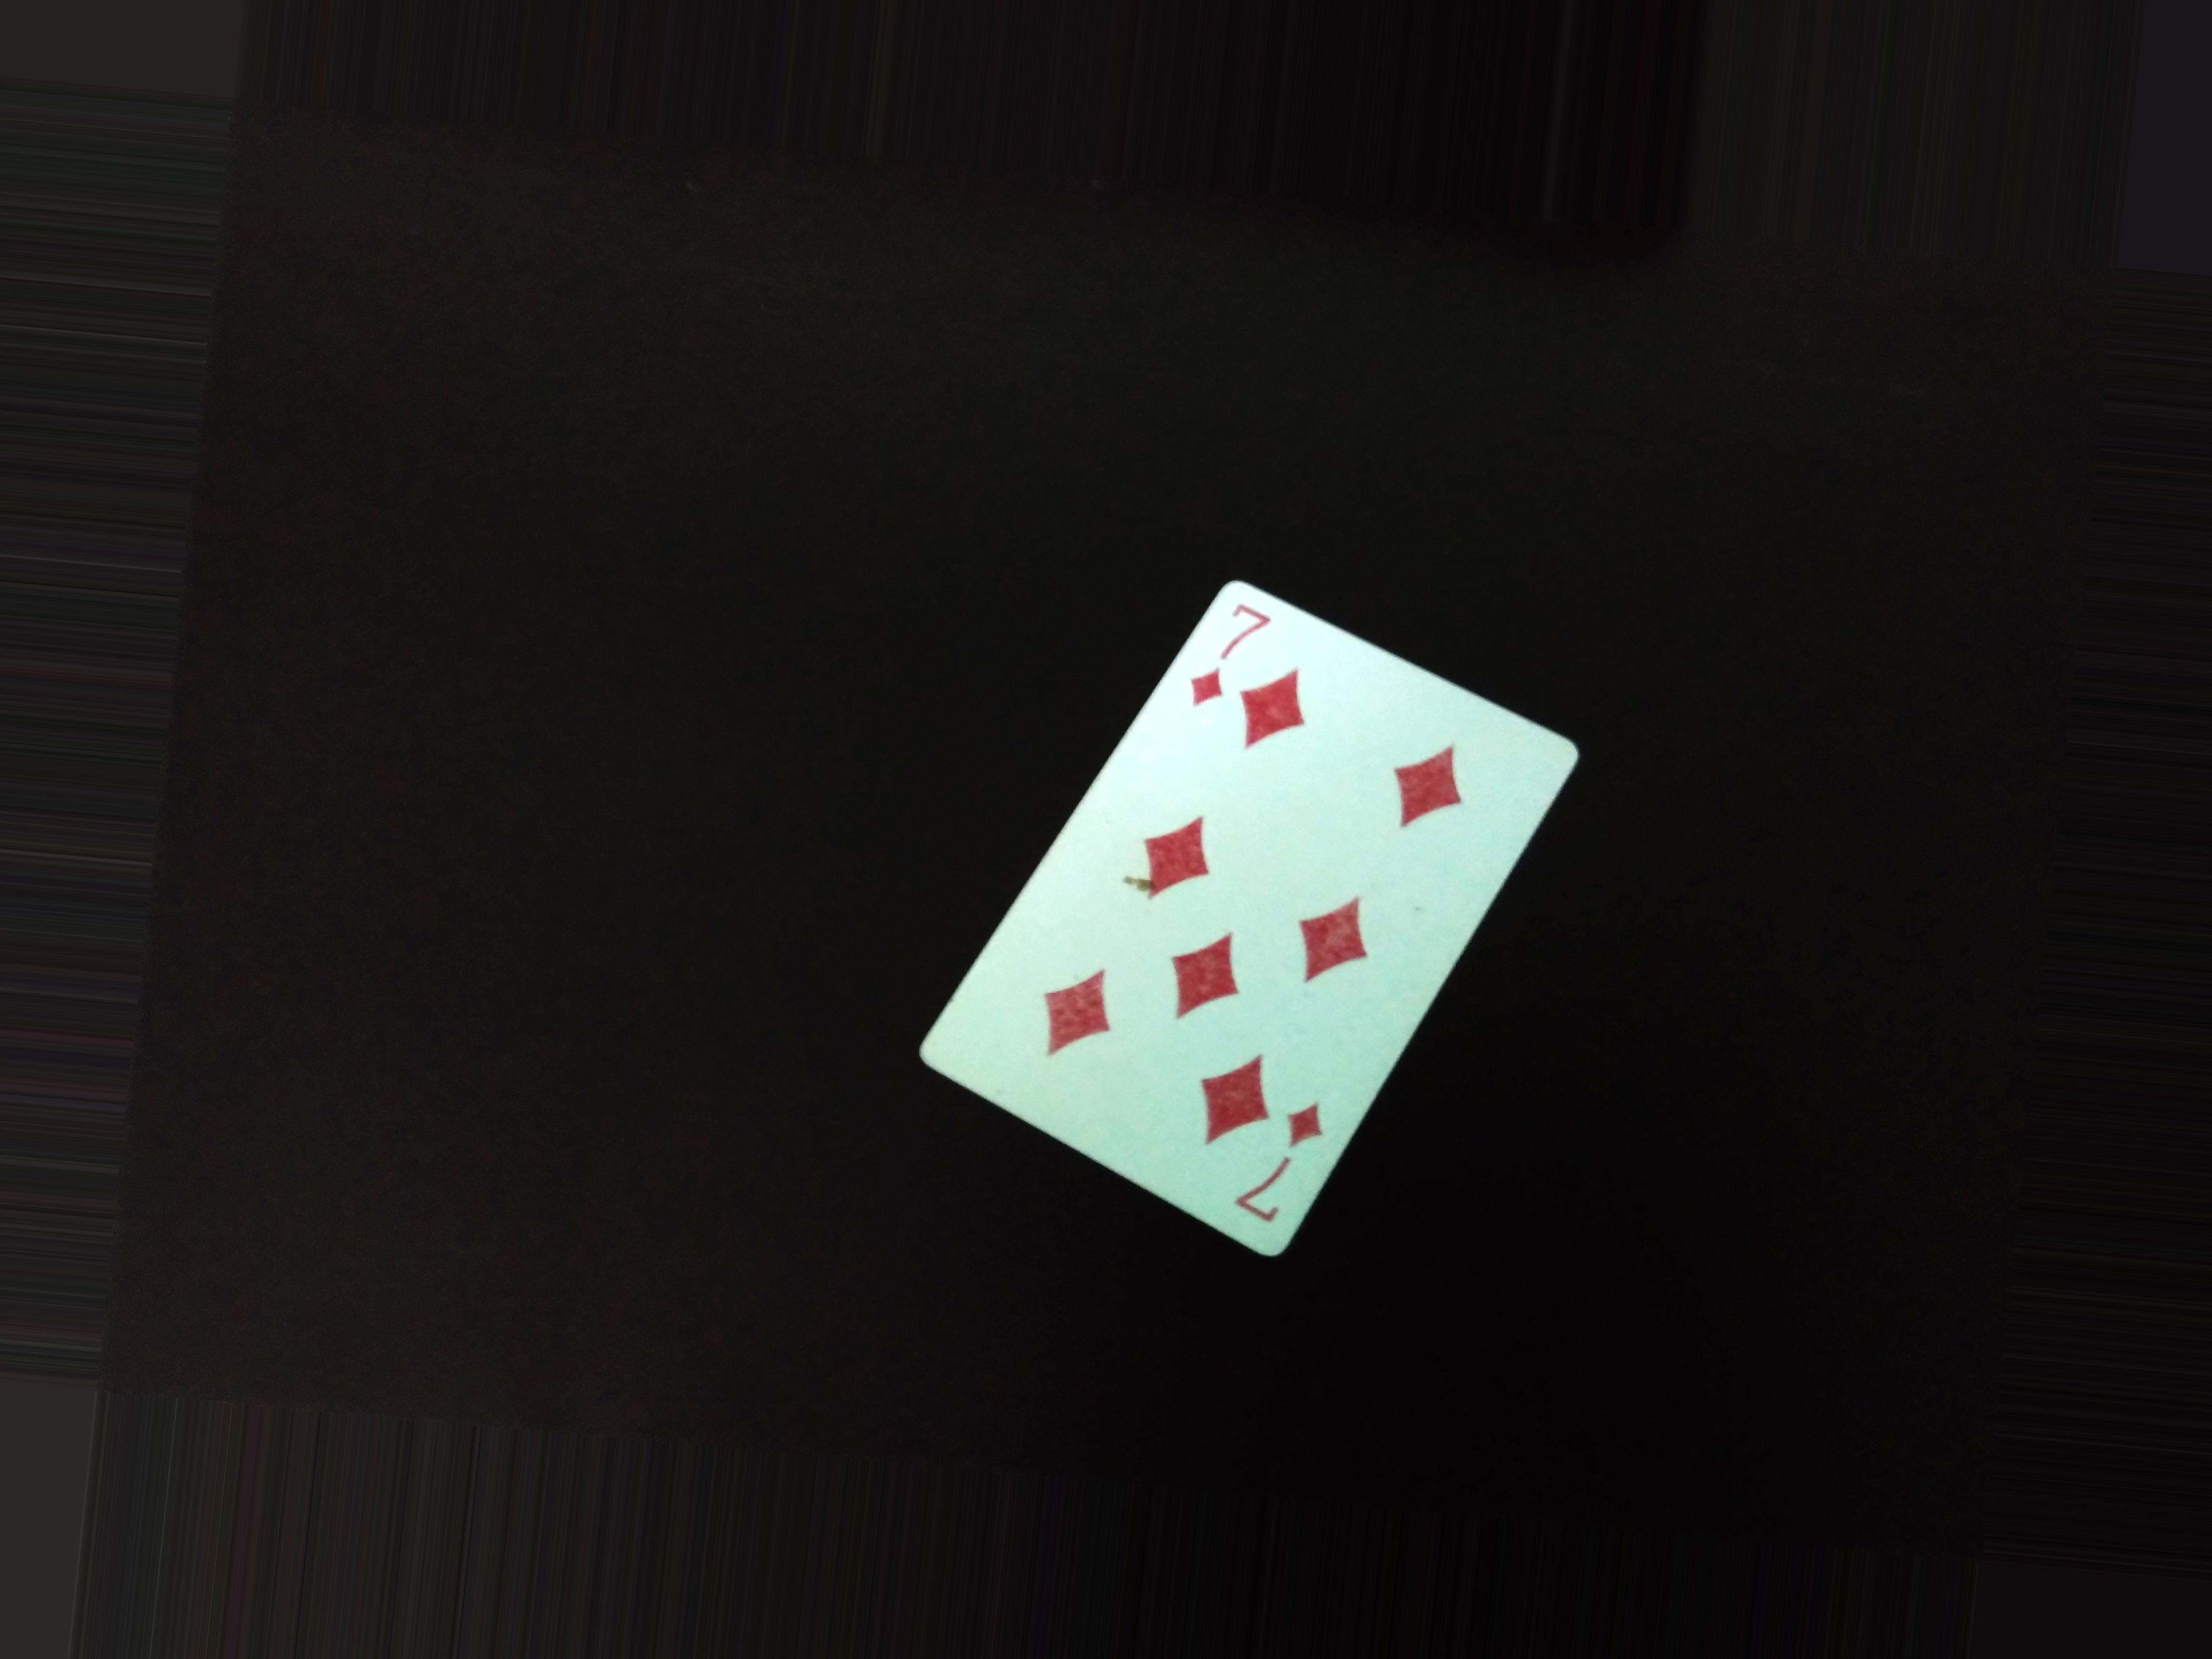7D: (1186, 591, 1270, 728)
